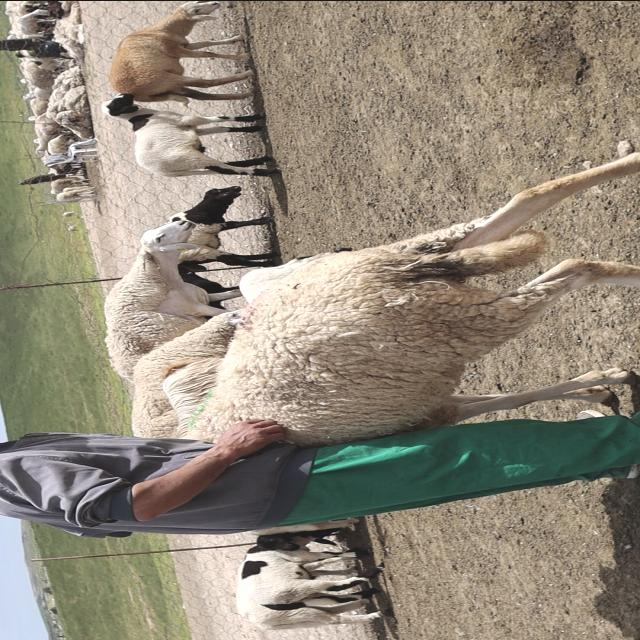Score_1: (197, 146, 639, 444)
